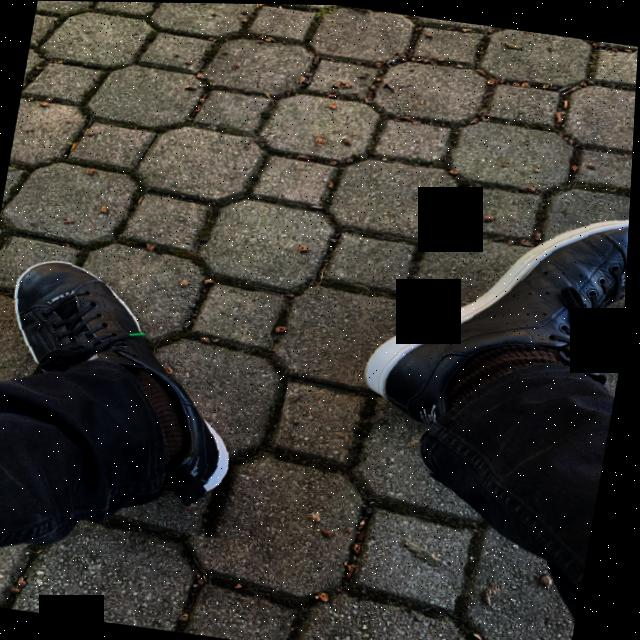shoe: (0, 183, 319, 544), (329, 145, 634, 497)
